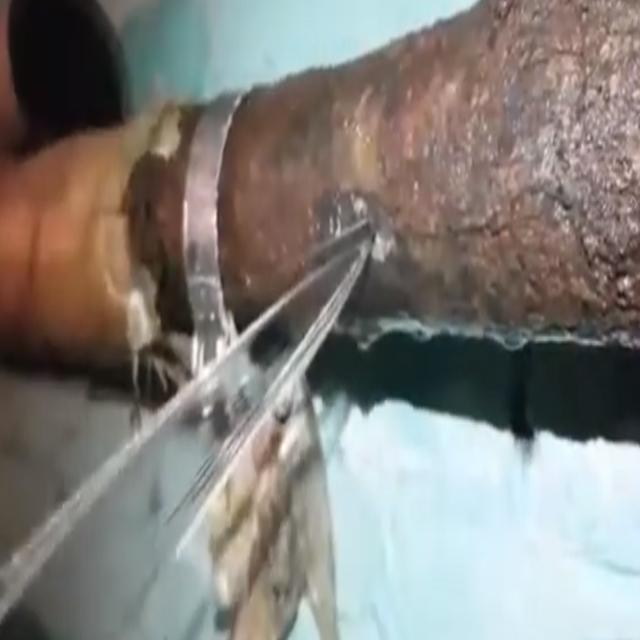leak: (0, 223, 371, 636)
